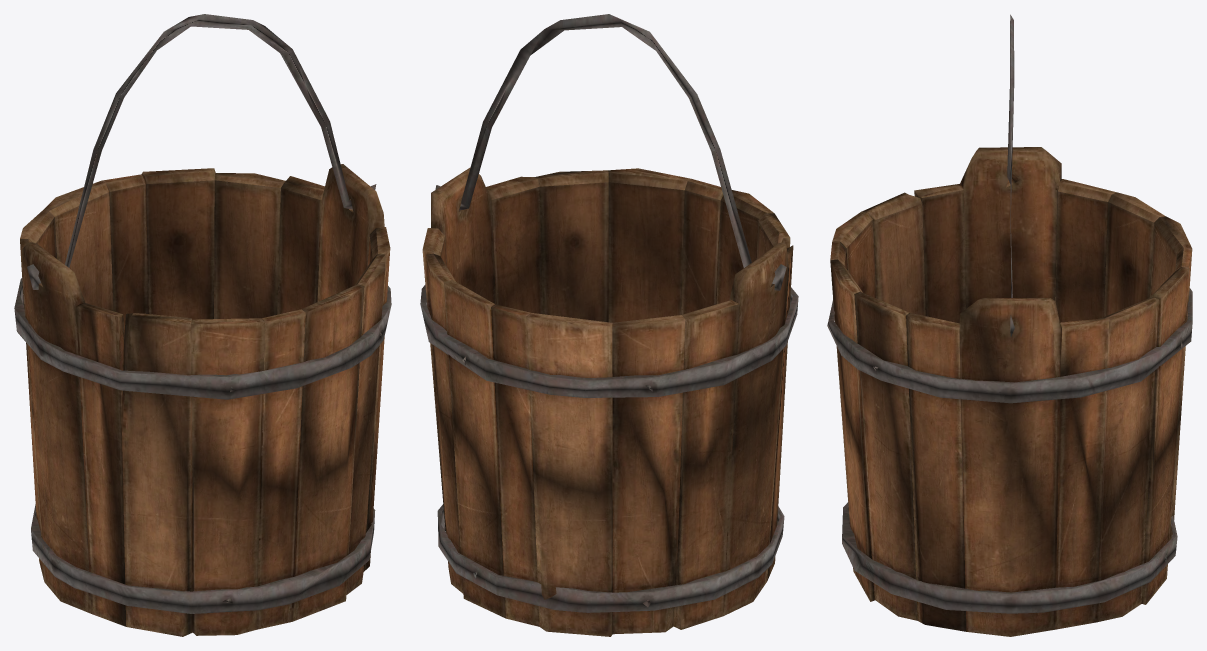
The model's file is bucket.glb.
3 views of the same model, side by side, from view 1: azimuth 30°, elevation 25°; view 2: azimuth 150°, elevation 25°; view 3: azimuth 270°, elevation 25° (orthographic).
Visible parts, largest first — view 1: wooden_bucket_01, wooden_bucket_01_handle; view 2: wooden_bucket_01, wooden_bucket_01_handle; view 3: wooden_bucket_01, wooden_bucket_01_handle.
Part boxes in pixels (x1,y1,x2,y2): wooden_bucket_01: [14, 164, 391, 636]; wooden_bucket_01_handle: [27, 14, 376, 289]; wooden_bucket_01: [420, 167, 798, 636]; wooden_bucket_01_handle: [435, 14, 786, 290]; wooden_bucket_01: [827, 147, 1192, 636]; wooden_bucket_01_handle: [1007, 14, 1014, 336].
Size of the model in its own units: 0.3643 by 0.5493 by 0.3354.
Materials: 1 (1 with a texture image).
